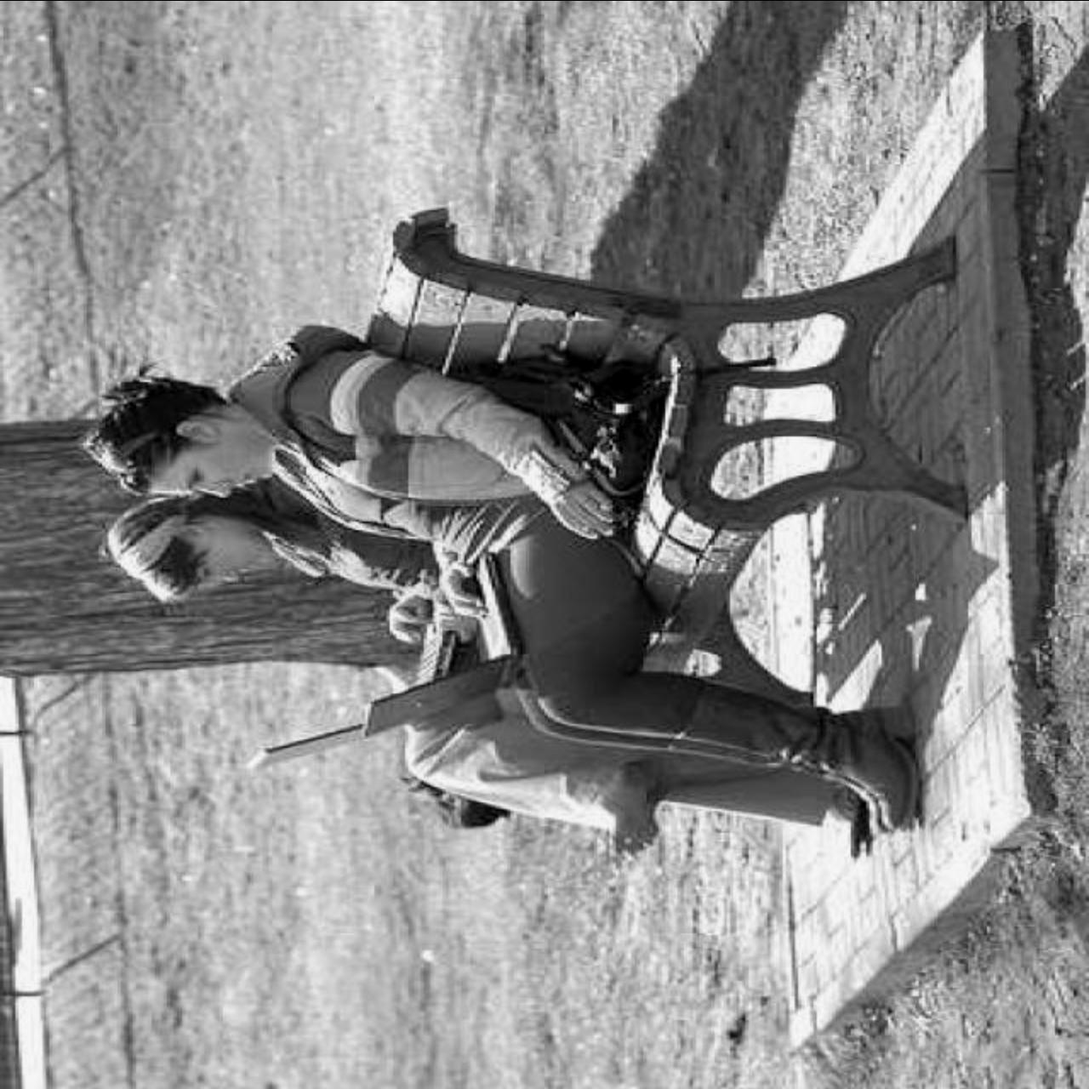laptop: (244, 544, 539, 790)
